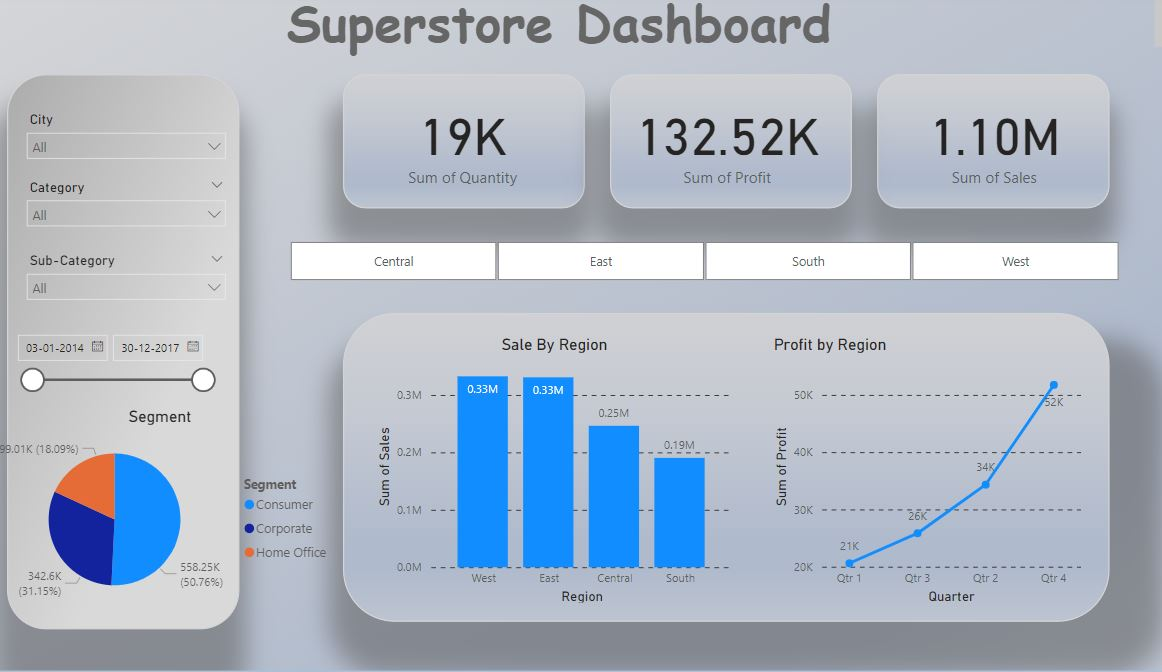

This screenshot's page, from the dashboard's own definition file:
{"tool":"powerbi","page":{"name":"SuperStore","canvas":[1280,720],"ordinal":0},"visuals":[{"type":"card","fields":{"Values":["Sum(Sample - Superstore.Profit)"]},"box":[704.1,93.8,219.3,122.4],"z":0},{"type":"card","fields":{"Values":["Sum(Sample - Superstore.Quantity)"]},"box":[416.4,93.8,233.6,122.4],"z":1000},{"type":"card","fields":{"Values":["Sum(Sample - Superstore.Sales)"]},"box":[985.4,93.8,222.5,122.4],"z":2000},{"type":"textbox","box":[0,0,1279.5,71.5],"z":3000},{"type":"slicer","fields":{"Values":["Sample - Superstore.City"]},"box":[62,119.2,230.5,71.5],"z":4000},{"type":"slicer","fields":{"Values":["Sample - Superstore.Region"]},"box":[325.8,241.6,926.6,68.3],"z":5000},{"type":"slicer","fields":{"Values":["Sample - Superstore.Order Date"]},"box":[49.3,351.3,230.5,85.8],"z":6000},{"type":"slicer","fields":{"Values":["Category.Category"]},"box":[62,190.7,230.5,77.9],"z":7000},{"type":"slicer","fields":{"Values":["Sample - Superstore.Sub-Category"]},"box":[62,268.6,230.5,82.6],"z":8000},{"type":"columnChart","title":"Sale By Region","fields":{"Category":["Sample - Superstore.Region"],"Y":["Sum(Sample - Superstore.Sales)"]},"box":[437.1,360.8,387.8,289.3],"z":9000},{"type":"lineChart","title":"Profit by Region","fields":{"Category":["Sample - Superstore.Region","Sample - Superstore.Order Date.Variation.Date Hierarchy.Year","Sample - Superstore.Order Date.Variation.Date Hierarchy.Quarter","Sample - Superstore.Order Date.Variation.Date Hierarchy.Month"],"Y":["Sum(Sample - Superstore.Profit)"]},"box":[858.3,360.8,335.4,289.3],"z":10000},{"type":"actionButton","box":[0,0,100,40],"z":11000},{"type":"pieChart","title":"Segment","fields":{"Category":["Sample - Superstore.Segment"],"Y":["Sum(Sample - Superstore.Sales)"]},"box":[22.3,437.1,381.5,219.3],"z":12000}]}

Visuals, with their boxes in screenshot pixels (x1, y1, x2, y2), scaled from the page's 1280x720 canvas onto the 1162x672 screenshot:
card - Sum(Sample - Superstore.Profit): (639,88,838,202)
card - Sum(Sample - Superstore.Quantity): (378,88,590,202)
card - Sum(Sample - Superstore.Sales): (895,88,1097,202)
textbox: (0,0,1161,67)
slicer - Sample - Superstore.City: (56,111,266,178)
slicer - Sample - Superstore.Region: (296,225,1137,289)
slicer - Sample - Superstore.Order Date: (45,328,254,408)
slicer - Category.Category: (56,178,266,251)
slicer - Sample - Superstore.Sub-Category: (56,251,266,328)
"Sale By Region" columnChart: (397,337,749,607)
"Profit by Region" lineChart: (779,337,1084,607)
actionButton: (0,0,91,37)
"Segment" pieChart: (20,408,367,613)
